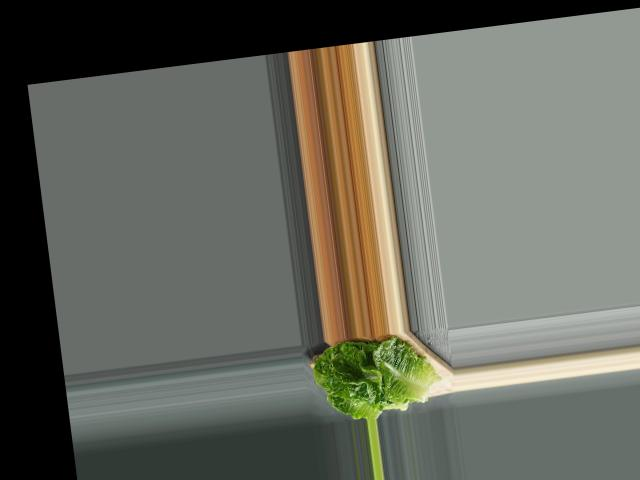lettuce: (306, 327, 440, 425)
